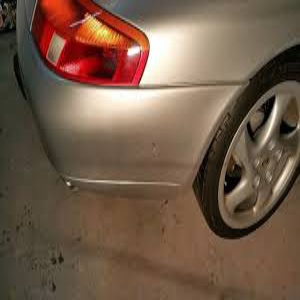bumper_scratch: (44, 113, 195, 197)
